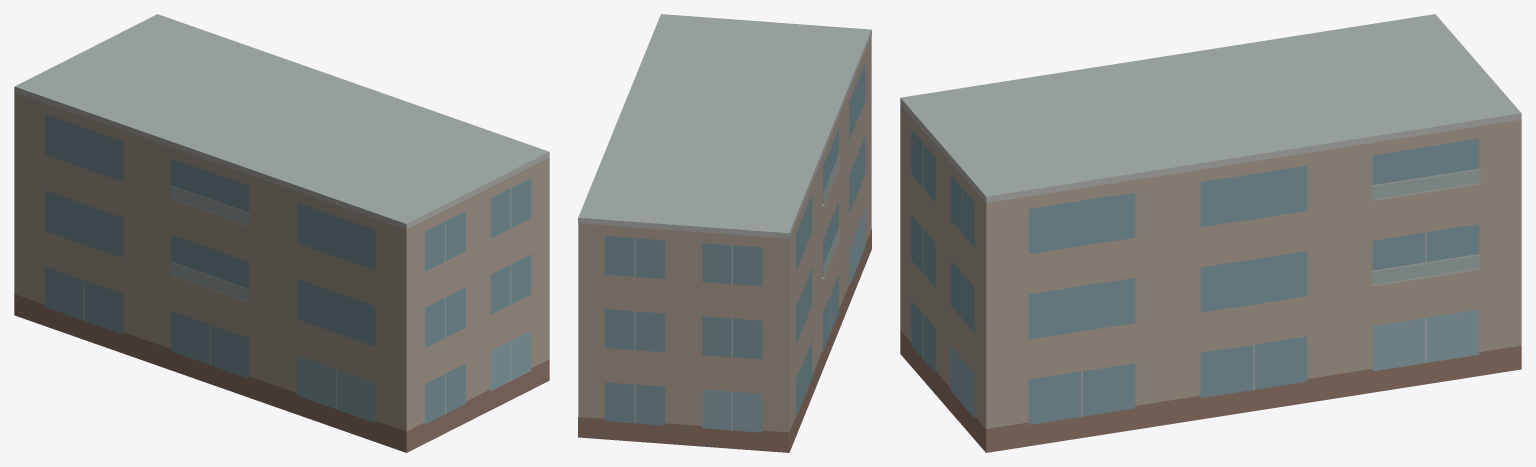
File: survey-upis-32772069.glb
The picture shows the model from 3 angles, left to right: view 1: azimuth 30°, elevation 25°; view 2: azimuth 150°, elevation 25°; view 3: azimuth 270°, elevation 25°; orthographic projection. The views are drawn at different scales.
Parts seen in each view (by area): view 1: survey-upis-32772069.tmp; view 2: survey-upis-32772069.tmp; view 3: survey-upis-32772069.tmp.
Part boxes in pixels (<box>): survey-upis-32772069.tmp: <box>14,14,549,452</box>; survey-upis-32772069.tmp: <box>578,14,871,452</box>; survey-upis-32772069.tmp: <box>900,14,1521,452</box>.
Size of the model in its own units: 15 by 9.8 by 21.55.
